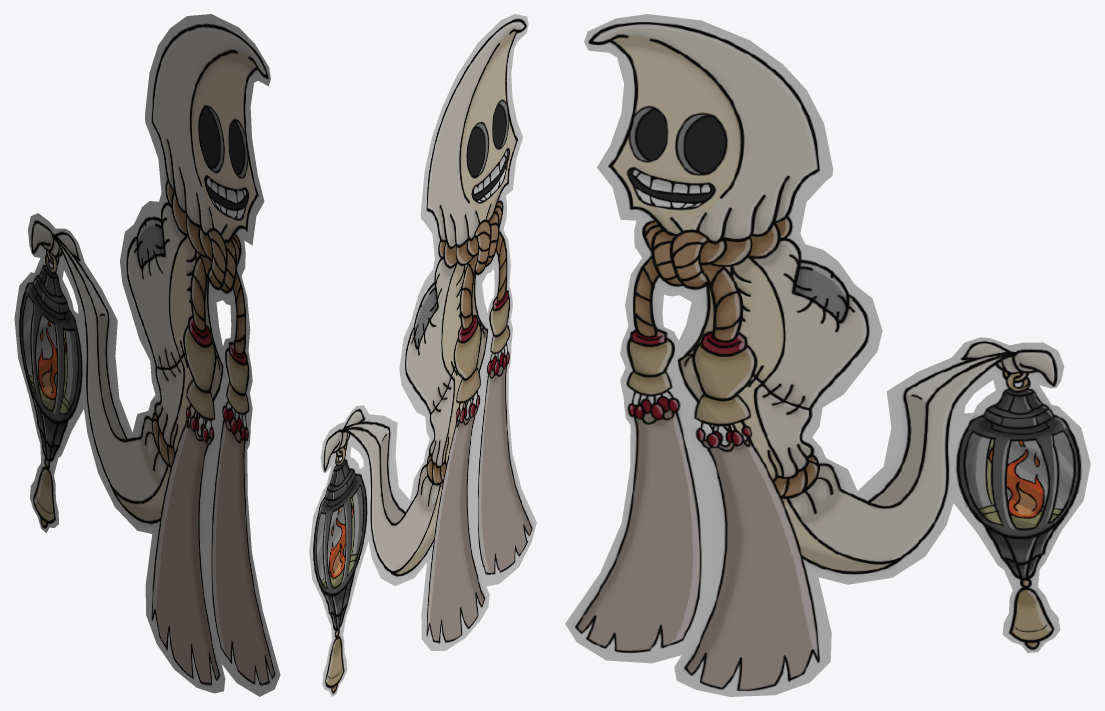
The model's file is Lakana aave.fbx.
3 renders of one model, left to right at view 1: azimuth 30°, elevation 25°; view 2: azimuth 150°, elevation 25°; view 3: azimuth 270°, elevation 25°, orthographic. The views are drawn at different scales.
Visible parts, largest first — view 1: Lakana aave v2 gray_area; view 2: Lakana aave v2 gray_area; view 3: Lakana aave v2 gray_area.
Part boxes in pixels (x1=…): Lakana aave v2 gray_area: x1=14, y1=14, x2=280, y2=696; Lakana aave v2 gray_area: x1=309, y1=14, x2=536, y2=696; Lakana aave v2 gray_area: x1=565, y1=14, x2=1090, y2=696.
Bounding box in the file's own units: 5.8e-06 × 86.66 × 60.46.
